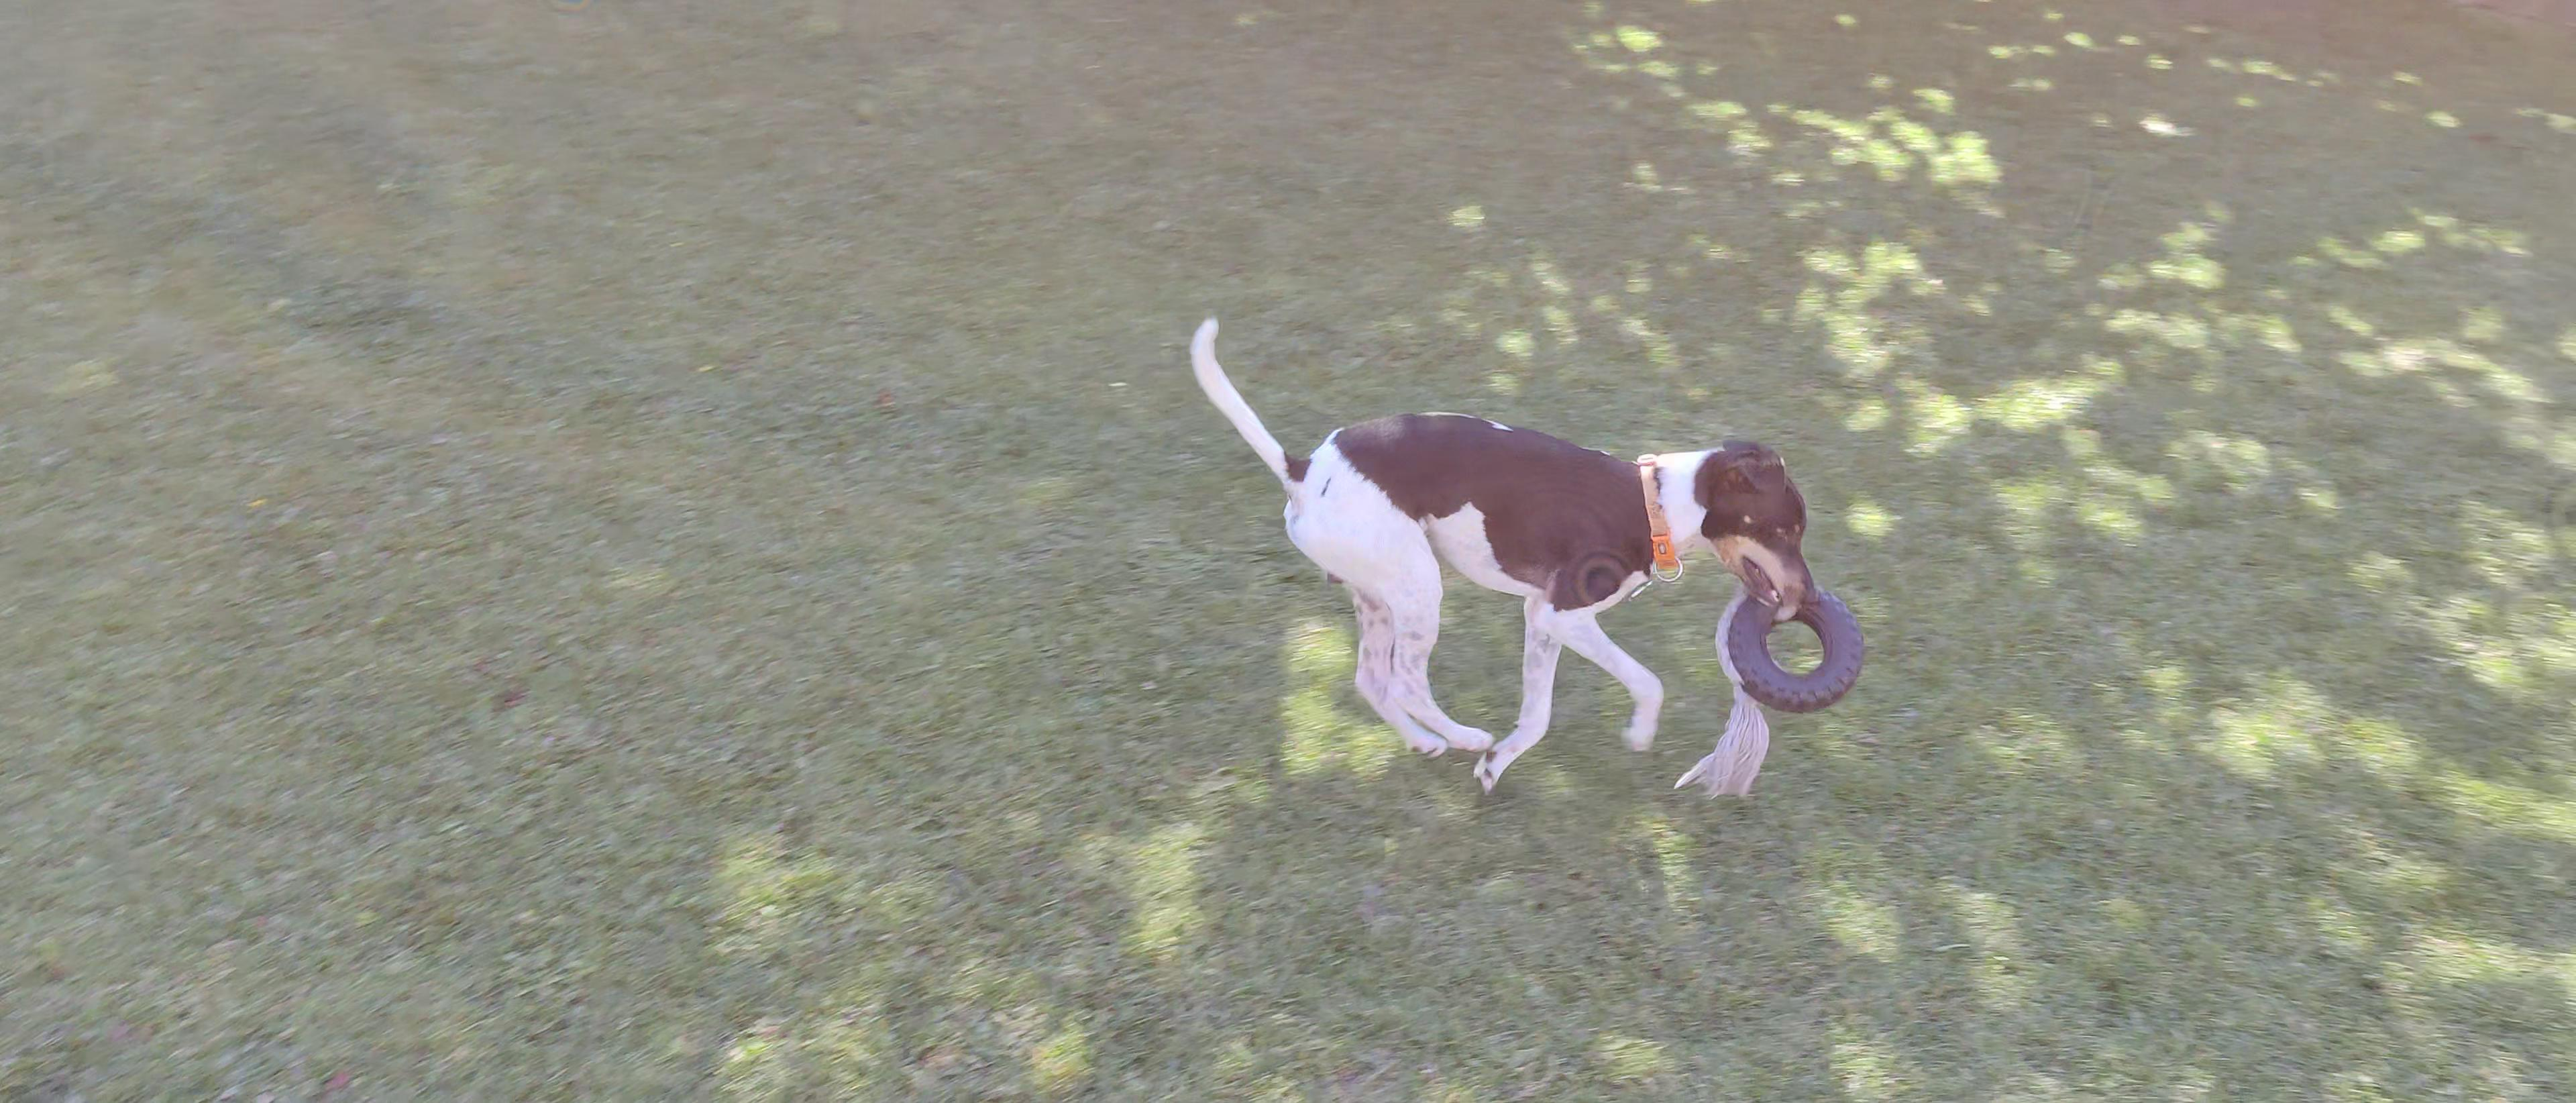Dog: (1184, 316, 1825, 797)
